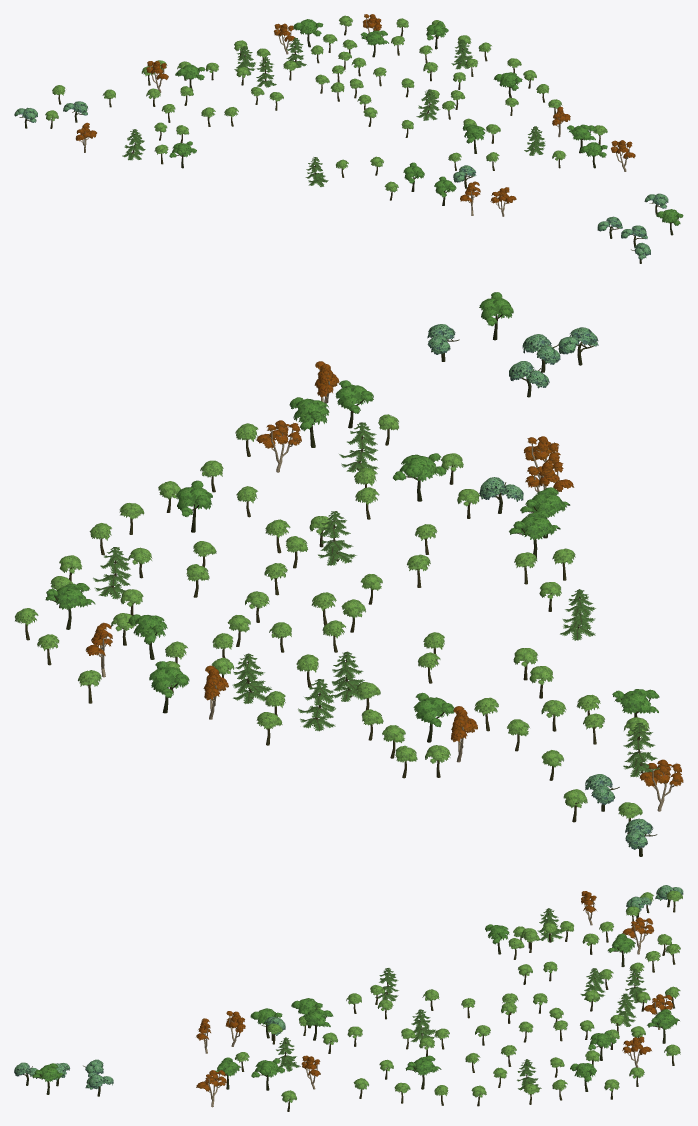
The model's file is overworld-0-2.gltf.
3 views of the same model, one above another, from view 1: azimuth 30°, elevation 25°; view 2: azimuth 150°, elevation 25°; view 3: azimuth 270°, elevation 25° (orthographic). The views are drawn at different scales.
Visible parts, largest first — view 1: 7e2e11a73c6c1f6b77c7c18c44a87655900818e94c168e7a92bb0a48cc87 (×2), cf73d73e4a52b629e942c4cf3ba67a960257f3fda86af0eadf8051aa3c1f (×2); view 2: cf73d73e4a52b629e942c4cf3ba67a960257f3fda86af0eadf8051aa3c1f (×11), 7e2e11a73c6c1f6b77c7c18c44a87655900818e94c168e7a92bb0a48cc87 (×8), 133dae8ce562dbc4cbf0d0d2cb7dc4cb2baafed83b6c58ebd4446a365708 (×3); view 3: cf73d73e4a52b629e942c4cf3ba67a960257f3fda86af0eadf8051aa3c1f (×9), 7e2e11a73c6c1f6b77c7c18c44a87655900818e94c168e7a92bb0a48cc87 (×6), 133dae8ce562dbc4cbf0d0d2cb7dc4cb2baafed83b6c58ebd4446a365708 (×5).
Boxes of the visible parts, x1=… form: 7e2e11a73c6c1f6b77c7c18c44a87655900818e94c168e7a92bb0a48cc87 (×2): x1=122, y1=89, x2=440, y2=160; cf73d73e4a52b629e942c4cf3ba67a960257f3fda86af0eadf8051aa3c1f (×2): x1=293, y1=19, x2=596, y2=153; cf73d73e4a52b629e942c4cf3ba67a960257f3fda86af0eadf8051aa3c1f (×11): x1=45, y1=380, x2=659, y2=742; 7e2e11a73c6c1f6b77c7c18c44a87655900818e94c168e7a92bb0a48cc87 (×8): x1=93, y1=422, x2=659, y2=777; 133dae8ce562dbc4cbf0d0d2cb7dc4cb2baafed83b6c58ebd4446a365708 (×3): x1=256, y1=420, x2=683, y2=811; cf73d73e4a52b629e942c4cf3ba67a960257f3fda86af0eadf8051aa3c1f (×9): x1=32, y1=924, x2=679, y2=1094; 7e2e11a73c6c1f6b77c7c18c44a87655900818e94c168e7a92bb0a48cc87 (×6): x1=275, y1=908, x2=646, y2=1071; 133dae8ce562dbc4cbf0d0d2cb7dc4cb2baafed83b6c58ebd4446a365708 (×5): x1=196, y1=917, x2=673, y2=1107.
Bounding box in the file's own units: 104 × 12.99 × 131.
Materials: 10 (10 with a texture image).
